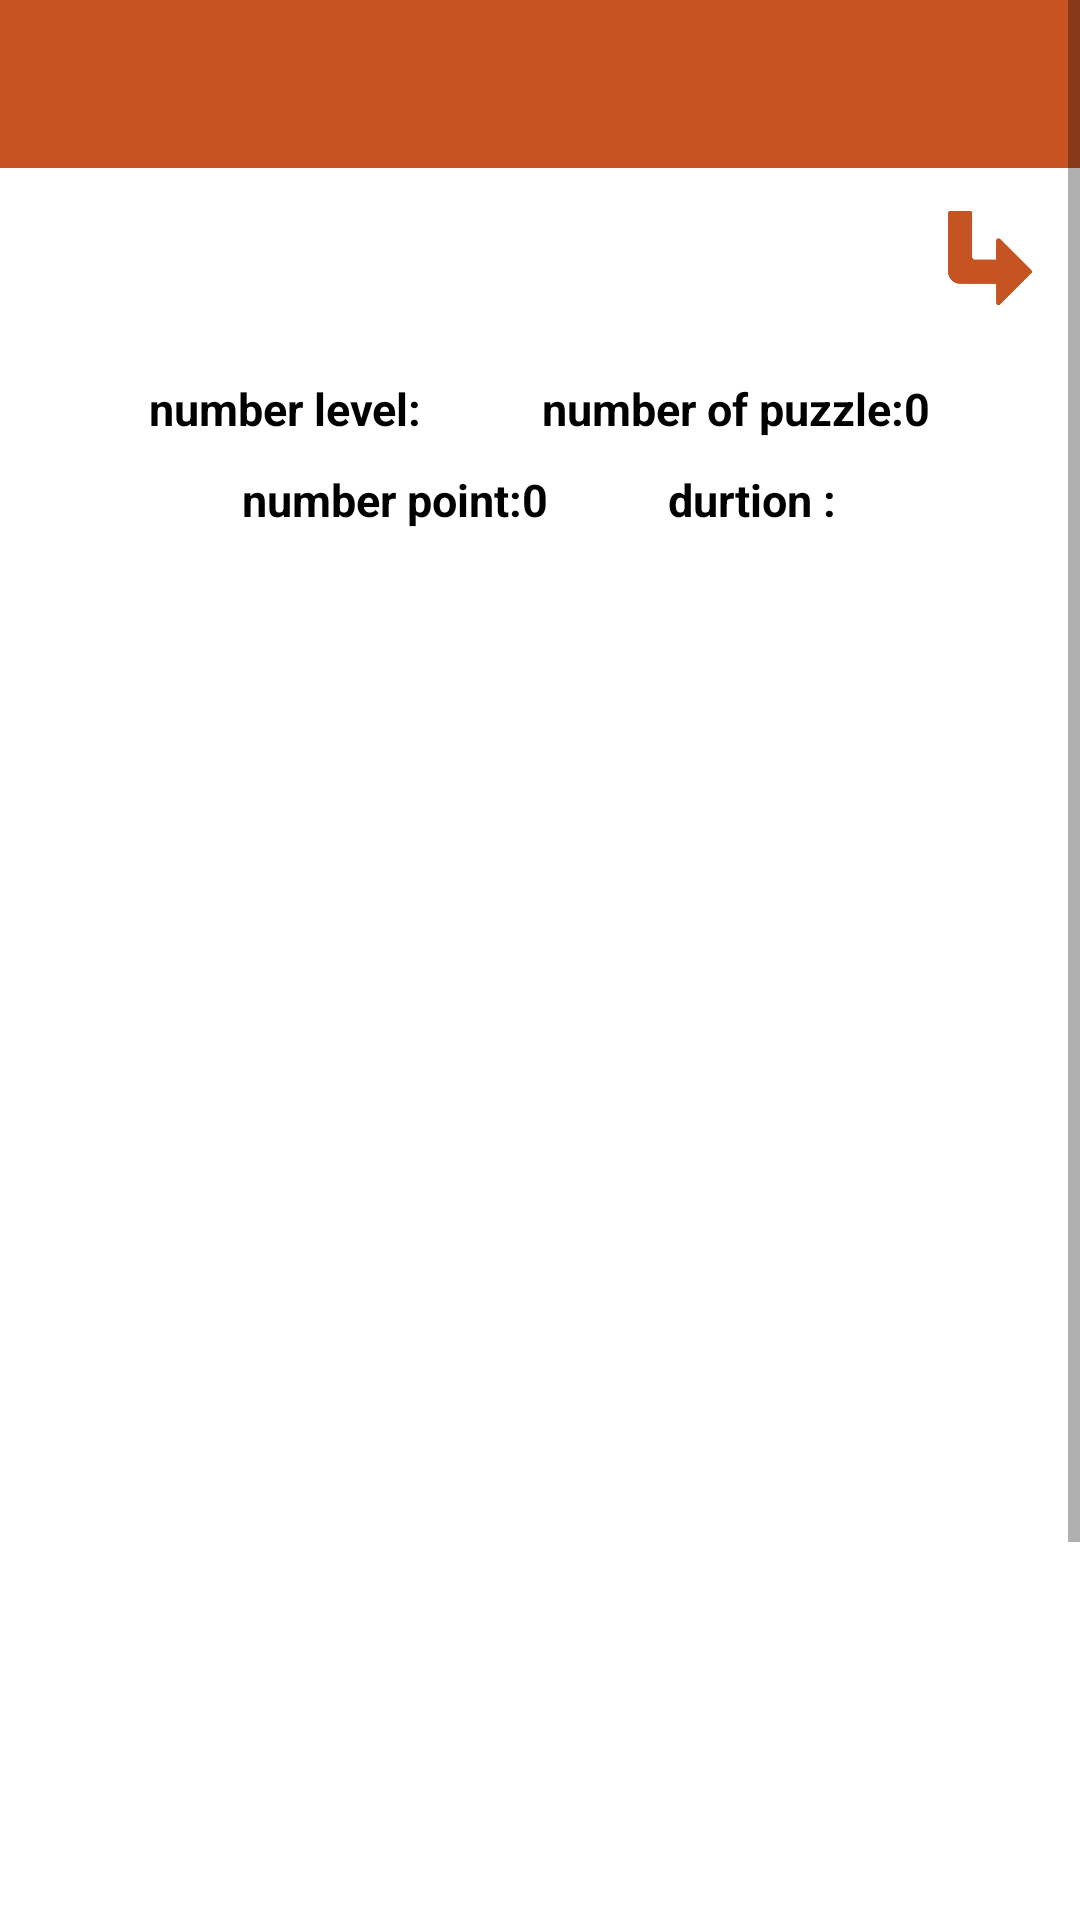

Screen size 1080w x 1920h. Icon name, then its box in pixels as (x1, y1, x2, y2):
skip: (948, 211, 1032, 305)
